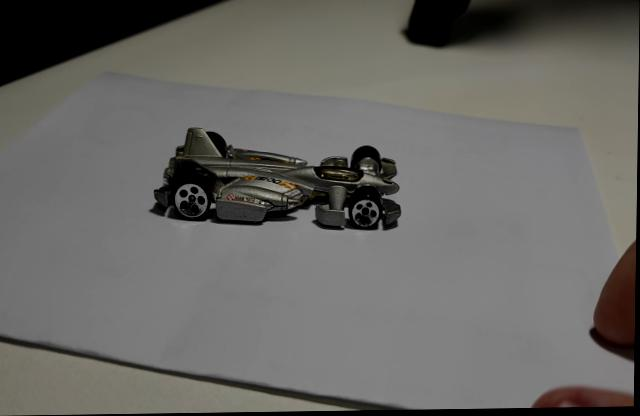05_DC121: (149, 129, 402, 233)
